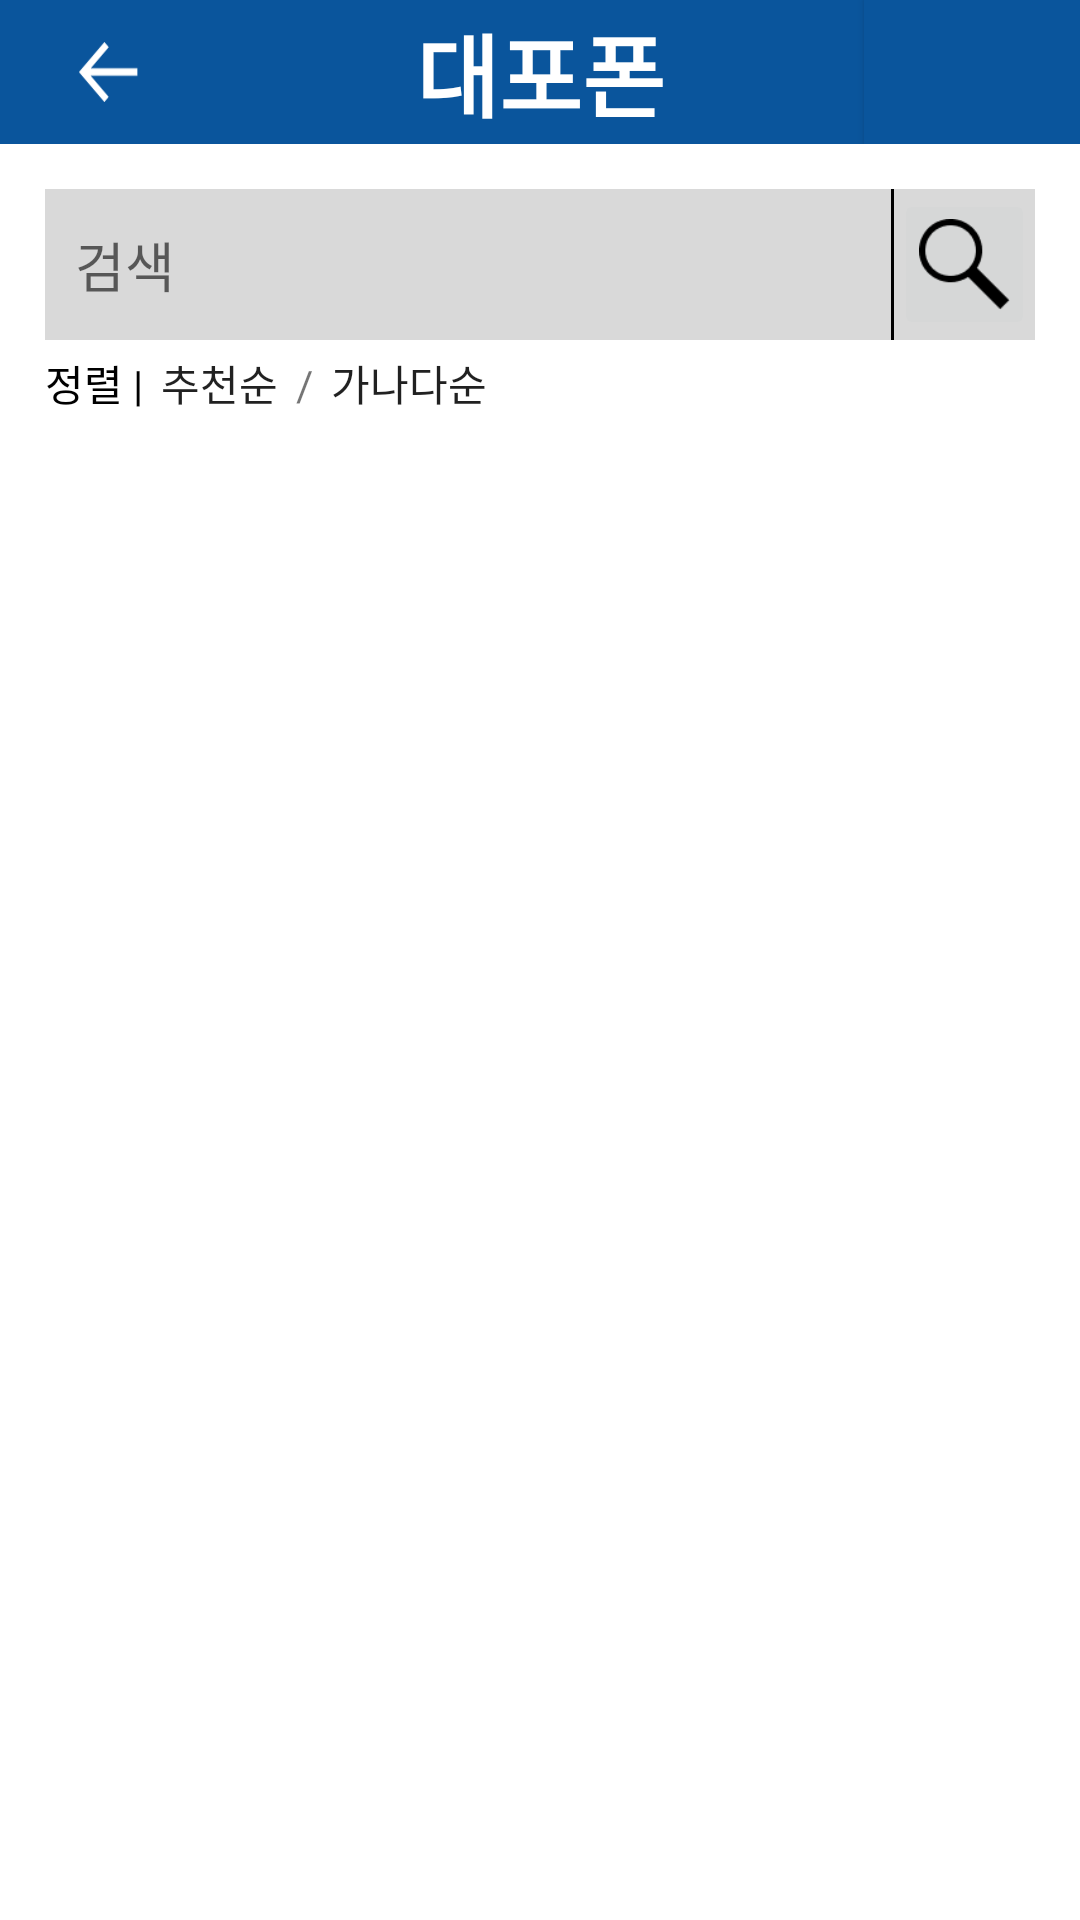

Icons on this 1080w x 1920h Android screen, each with the point to tap as (x=x, y=y):
back arrow resize: (x=108, y=72)
search: (x=964, y=264)
